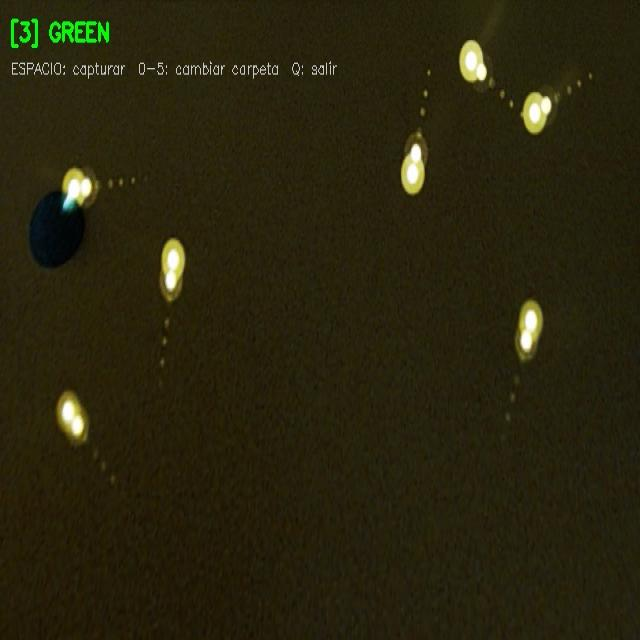green: (27, 181, 85, 270)
